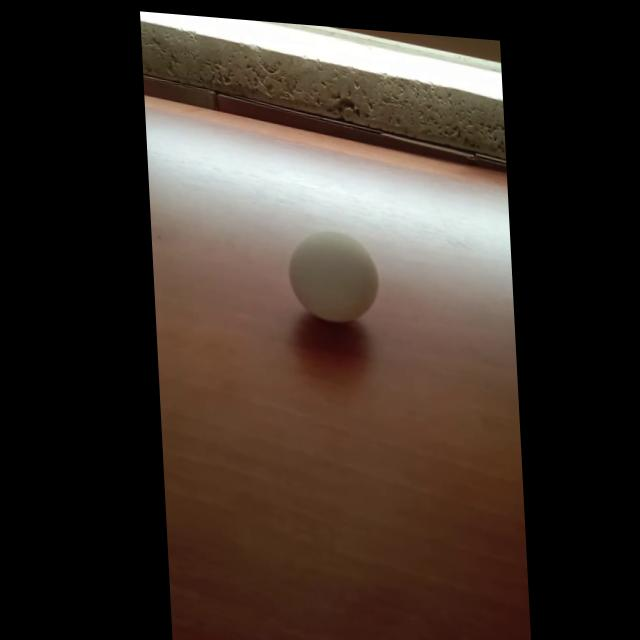white ball: (286, 226, 380, 326)
